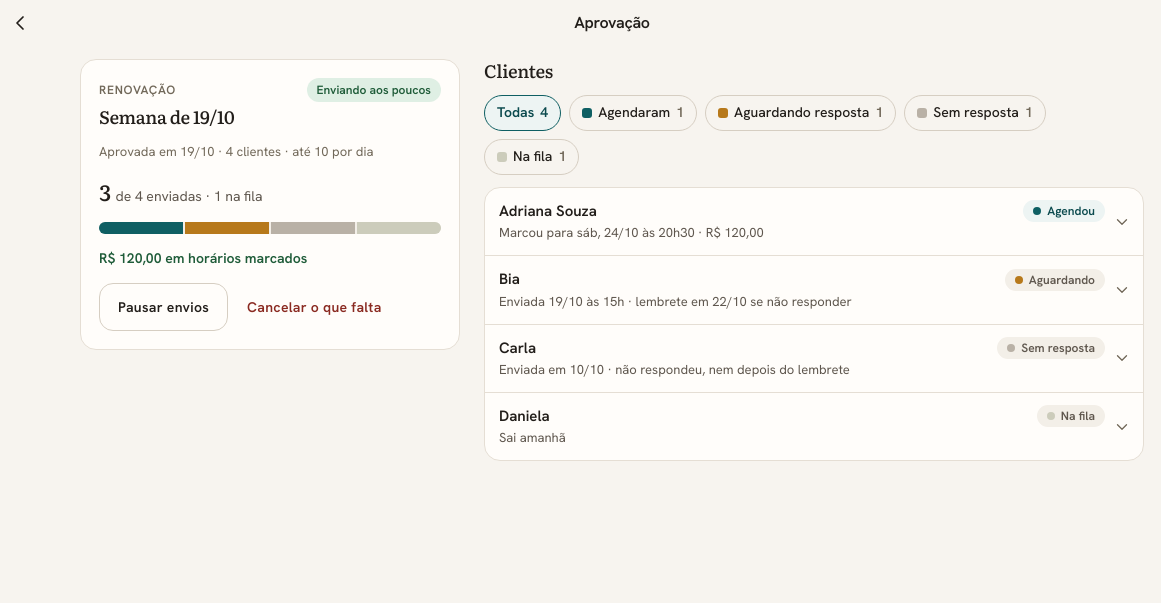
it: D-210: andamento de uma aprovação › abrir a cliente mostra a mensagem que saiu e o link para o perfil
Step 1. Click the button "Adriana Souza" → [548, 211], box x1=485 y1=188 x2=1143 y2=255
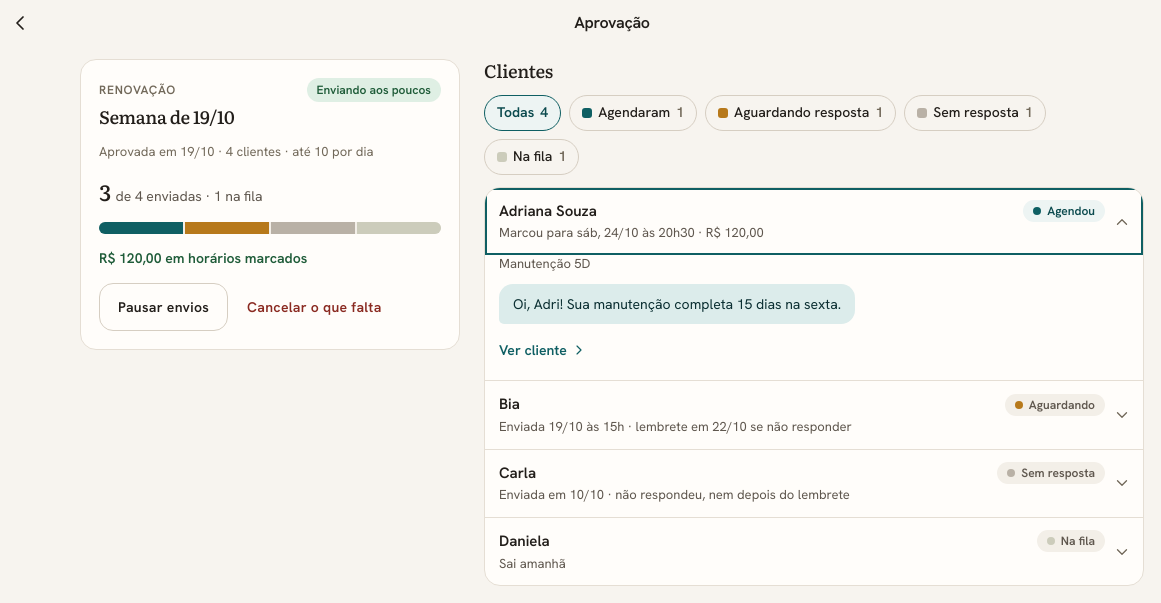
Result: the button "Adriana Souza" is expanded at x1=485 y1=188 x2=1143 y2=255
Result: the text "Oi, Adri! Sua manutenção completa 15 dias na sexta." is shown at x1=499 y1=284 x2=855 y2=324
